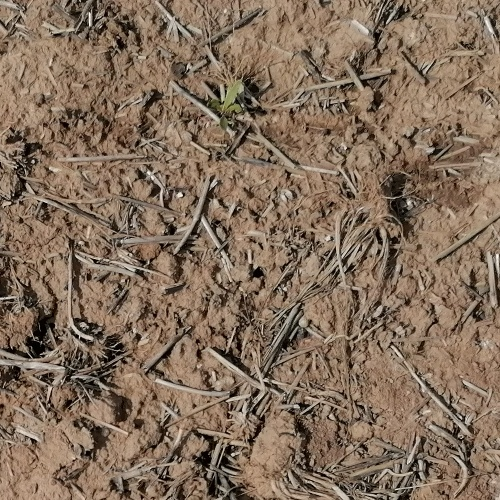beet: (208, 82, 241, 131)
